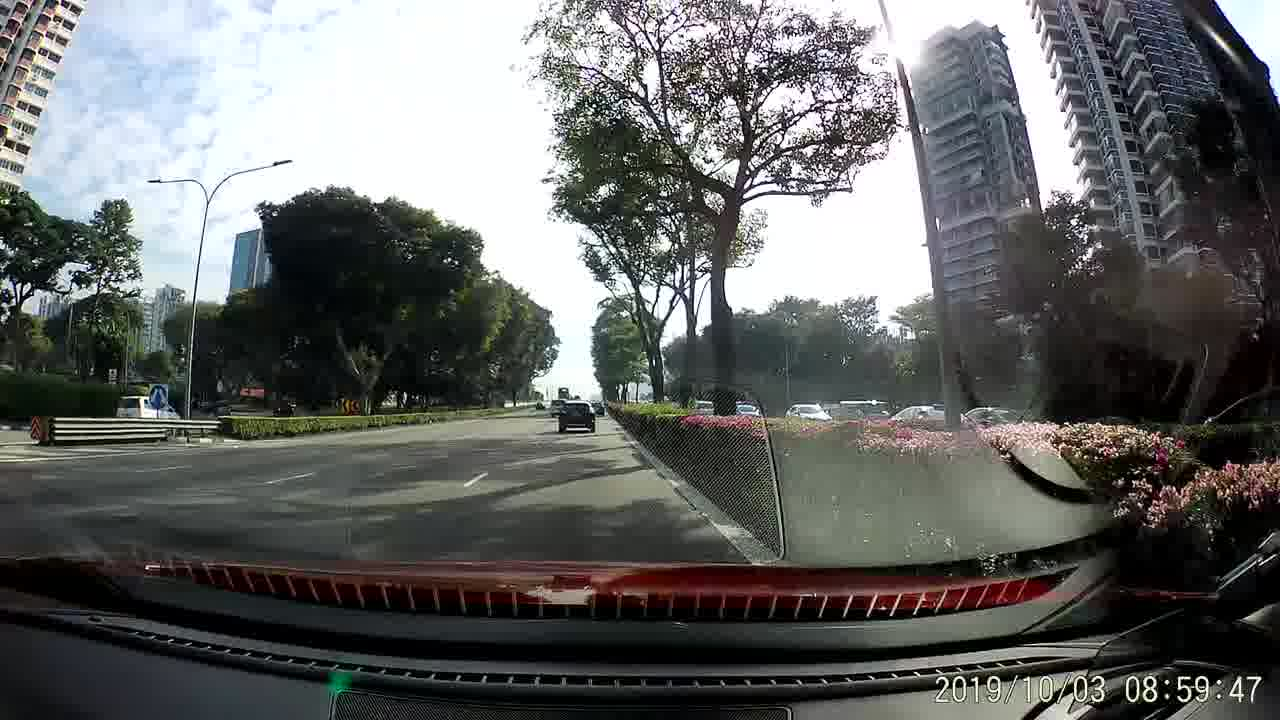car: (884, 401, 976, 427), (115, 392, 180, 422), (557, 399, 598, 434), (783, 400, 834, 423)
